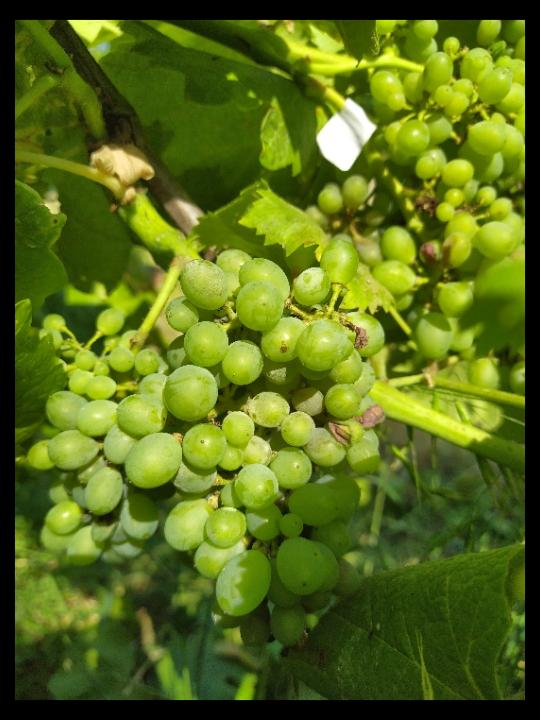grape: (22, 237, 389, 652)
